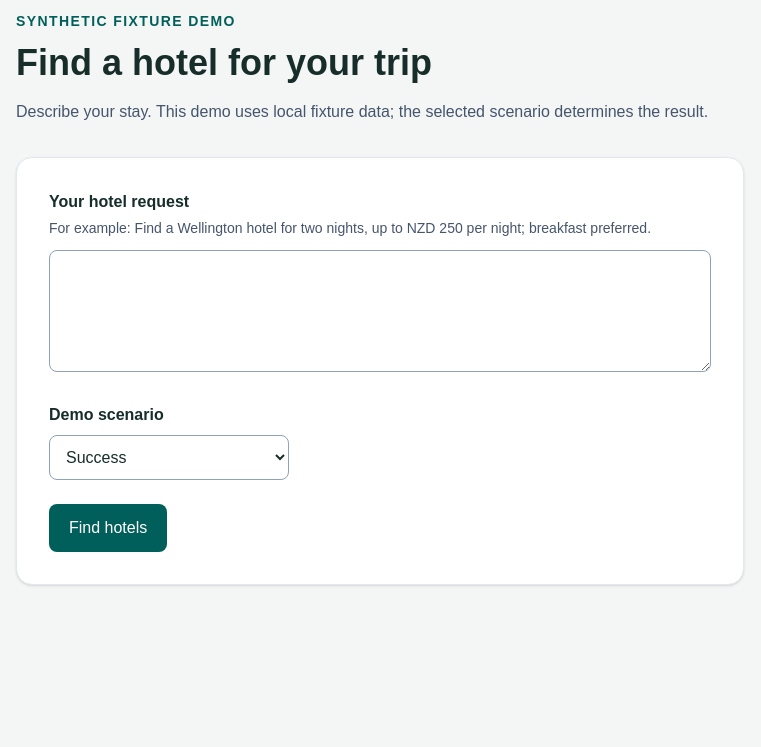
recommendation request journey › preserves input after 503 and retries the original message with the current scenario
This screenshot has width=761, height=747.
In the text box labelled "Your hotel request": (380, 311) [49,250,711,372], type "Find a Wellington hotel for two nights."
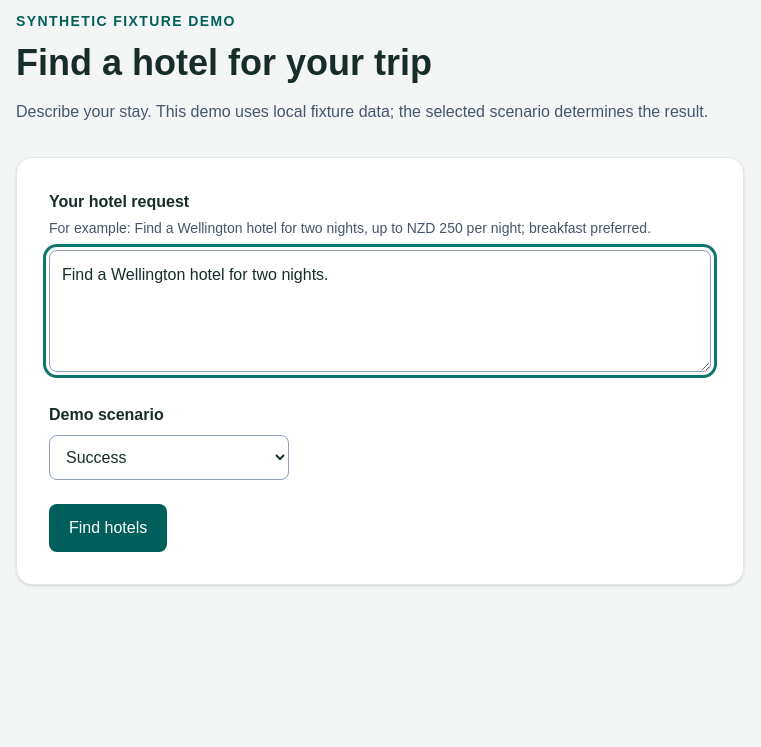
Select "Error" in the dropdown labelled "Demo scenario": (169, 458) [49,435,289,480]
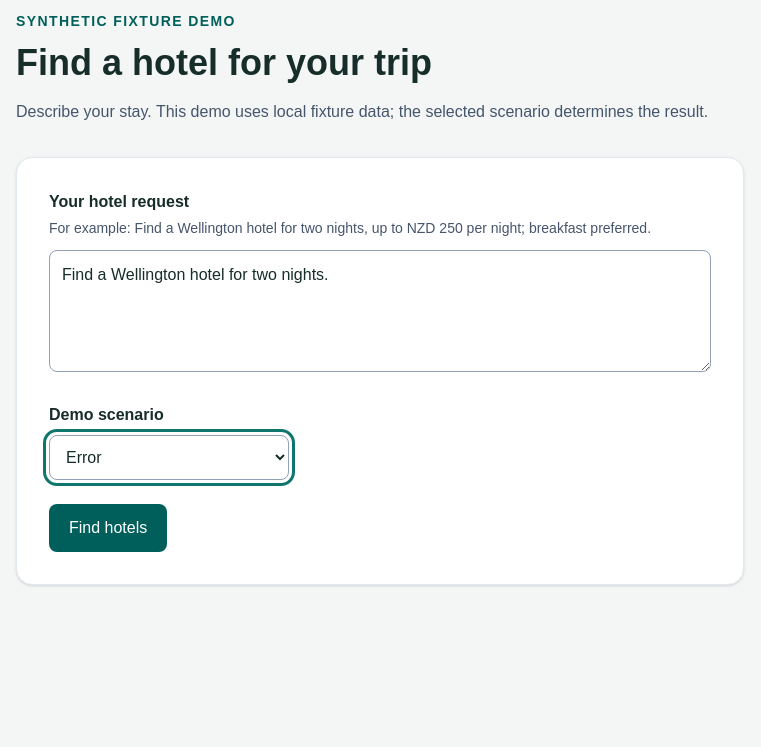
Click the button "Find hotels": (108, 528) [49,504,167,552]
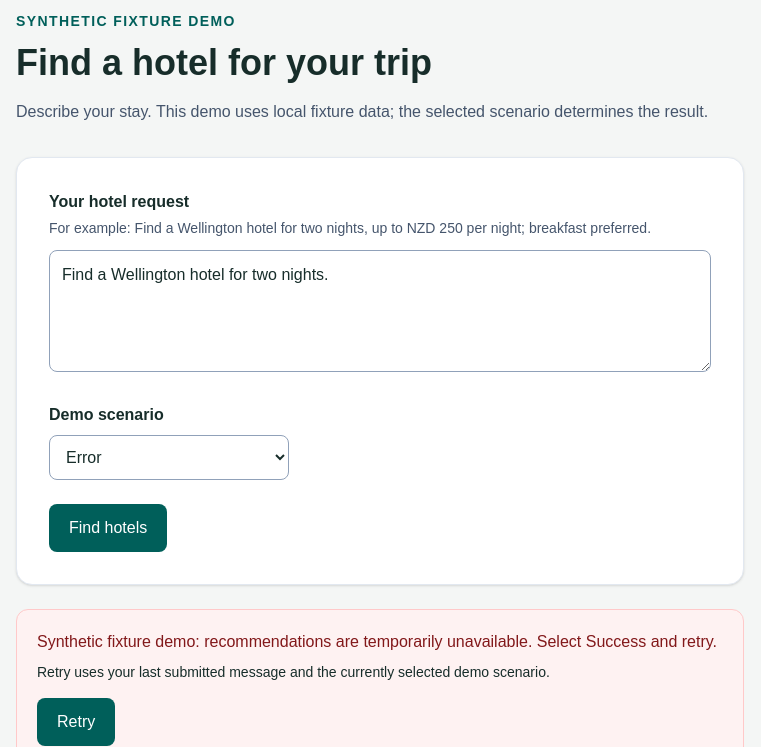
Result: the message shows "Synthetic fixture demo: recommendations are temporarily unavailable. Select Success and retry." at [37,633,717,650]
Editing the visible input must not change what Retry sends.
Replace the text in the text box labelled "Your hotel request" with "An edited draft": (380, 311) [49,250,711,372]
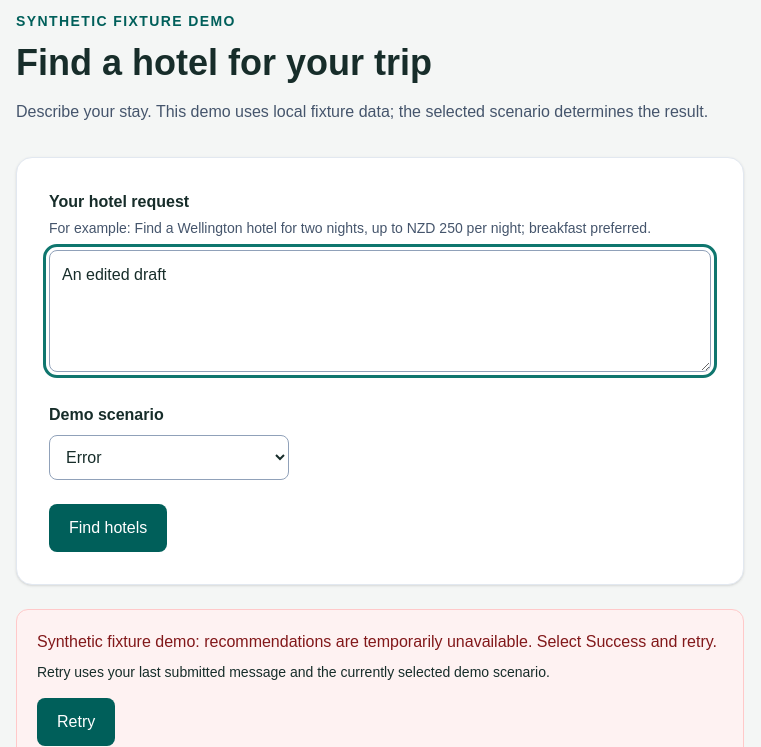
Select "Success" in the dropdown labelled "Demo scenario": (169, 458) [49,435,289,480]
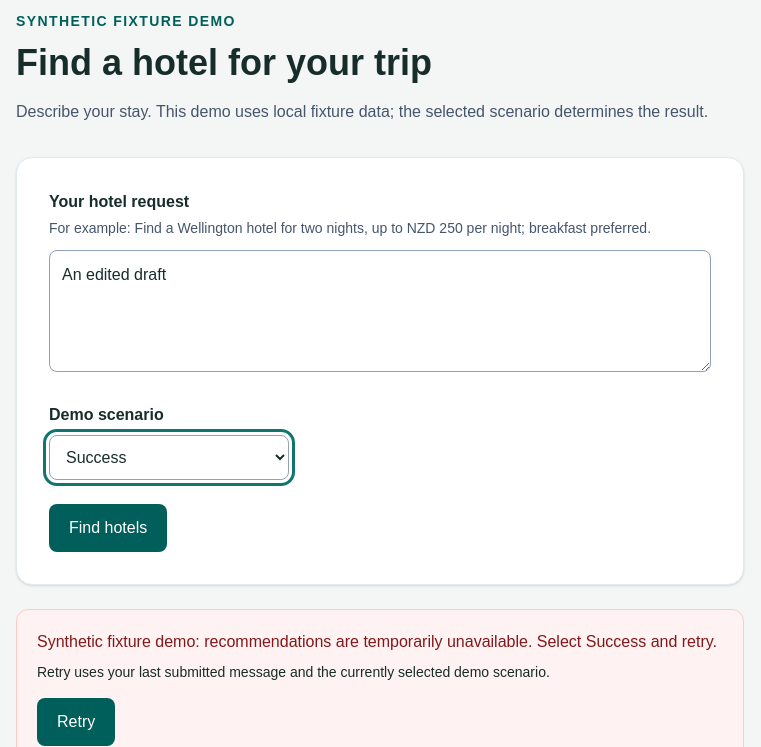
Click the button "Retry": (76, 722) [37,698,115,746]
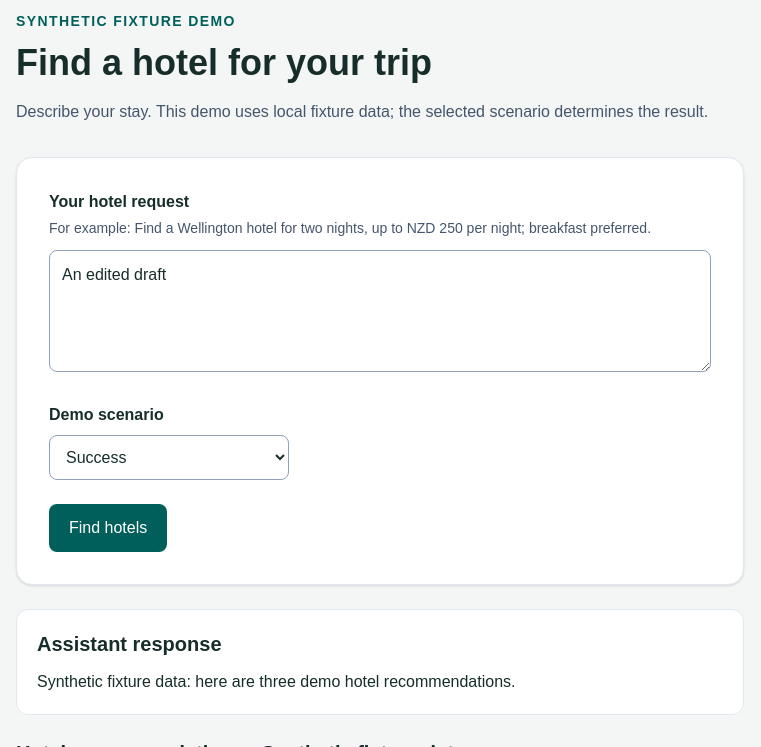
Result: the text "Synthetic fixture data: here are three demo hotel recommendations." is shown at [37,673,516,690]
